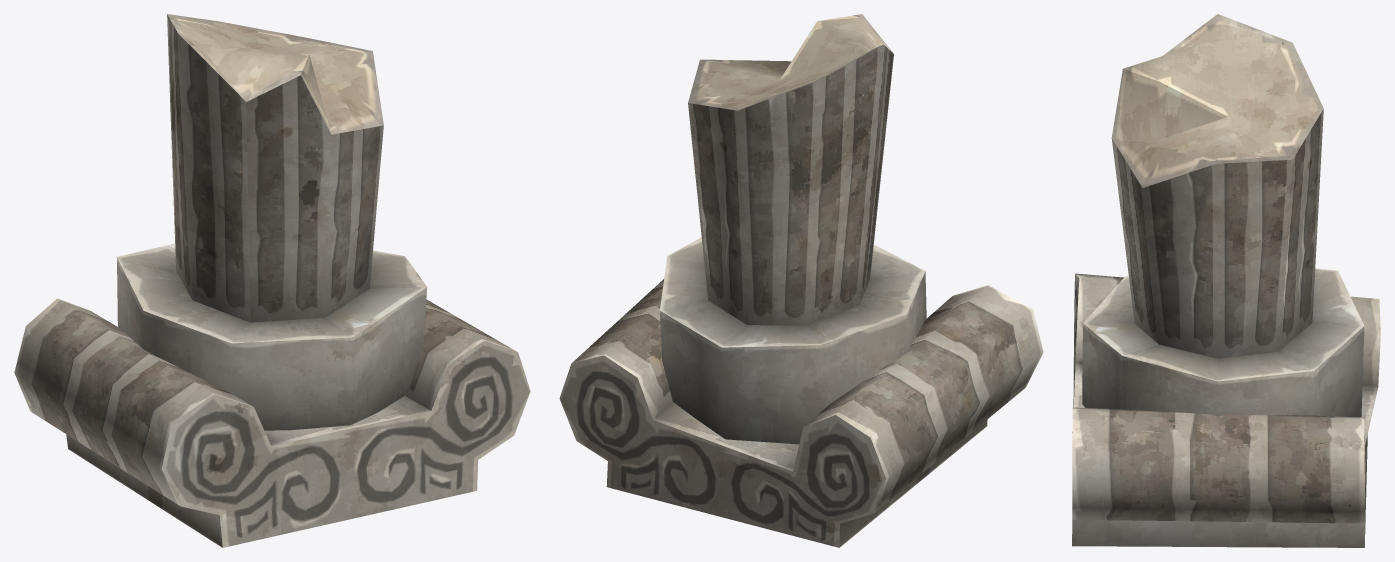
File: Toon_Column_01_Base.fbx
The picture shows the model from 3 angles, left to right: view 1: azimuth 30°, elevation 25°; view 2: azimuth 150°, elevation 25°; view 3: azimuth 270°, elevation 25°; orthographic projection. The views are drawn at different scales.
Parts seen in each view (by area): view 1: Toon_Column_01_Base; view 2: Toon_Column_01_Base; view 3: Toon_Column_01_Base.
Part boxes in pixels (box(x1,y1,x2,y2)): Toon_Column_01_Base: box(14, 14, 530, 547); Toon_Column_01_Base: box(559, 14, 1043, 547); Toon_Column_01_Base: box(1072, 14, 1380, 547).
Size of the model in its own units: 5.31 by 6.42 by 4.09.
